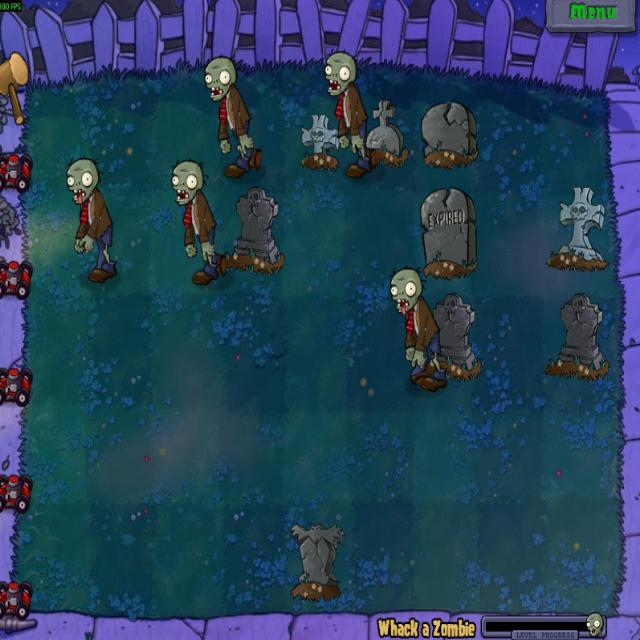grave: (543, 290, 612, 388), (224, 184, 286, 276), (545, 185, 610, 271), (420, 184, 478, 278), (426, 291, 482, 382), (289, 520, 345, 599), (420, 95, 478, 170), (362, 96, 408, 166), (296, 109, 341, 170)
zombie: (386, 262, 425, 316), (63, 155, 101, 205), (168, 157, 206, 207), (201, 54, 239, 102), (322, 49, 357, 98)
